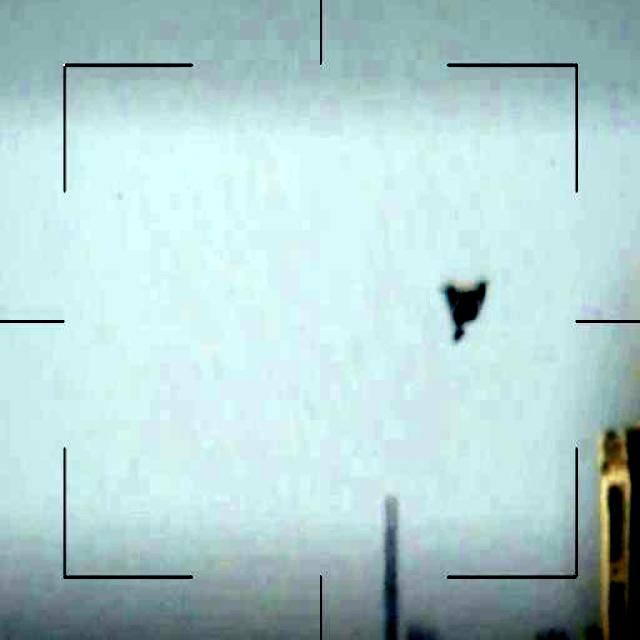bird: (441, 274, 498, 349)
